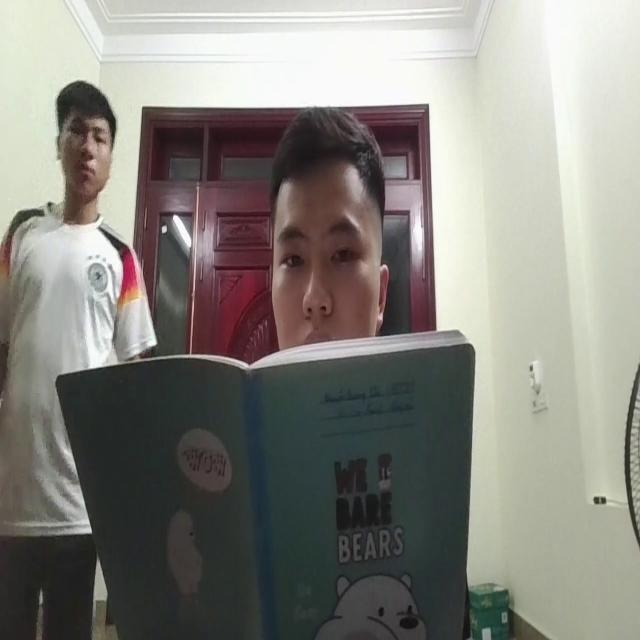book: (56, 339, 470, 640)
extra_person: (4, 90, 138, 526)
student: (269, 91, 387, 356)
